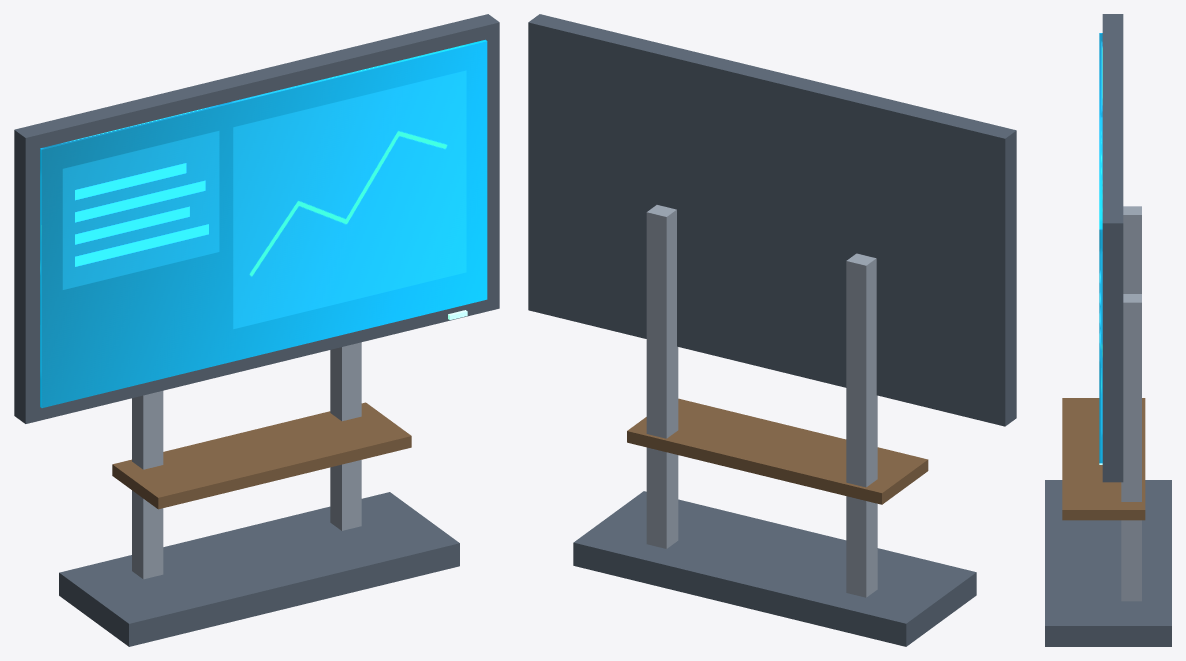
Rendered from tv_wall_screen.glb.
3 renders of one model, left to right at view 1: azimuth 30°, elevation 25°; view 2: azimuth 150°, elevation 25°; view 3: azimuth 270°, elevation 25°, orthographic. The views are drawn at different scales.
Parts seen in each view (by area): view 1: tv_screen_mesh, tv_wall_screen; view 2: tv_wall_screen; view 3: tv_wall_screen, tv_screen_mesh.
Boxes of the visible parts, x1=… form: tv_screen_mesh: x1=40, y1=39, x2=487, y2=407; tv_wall_screen: x1=14, y1=14, x2=499, y2=646; tv_wall_screen: x1=528, y1=14, x2=1016, y2=646; tv_wall_screen: x1=1045, y1=14, x2=1171, y2=646; tv_screen_mesh: x1=1099, y1=33, x2=1102, y2=463.
Size of the model in its own units: 2.15 by 2.18 by 0.55.
5 materials, 1 textured.
